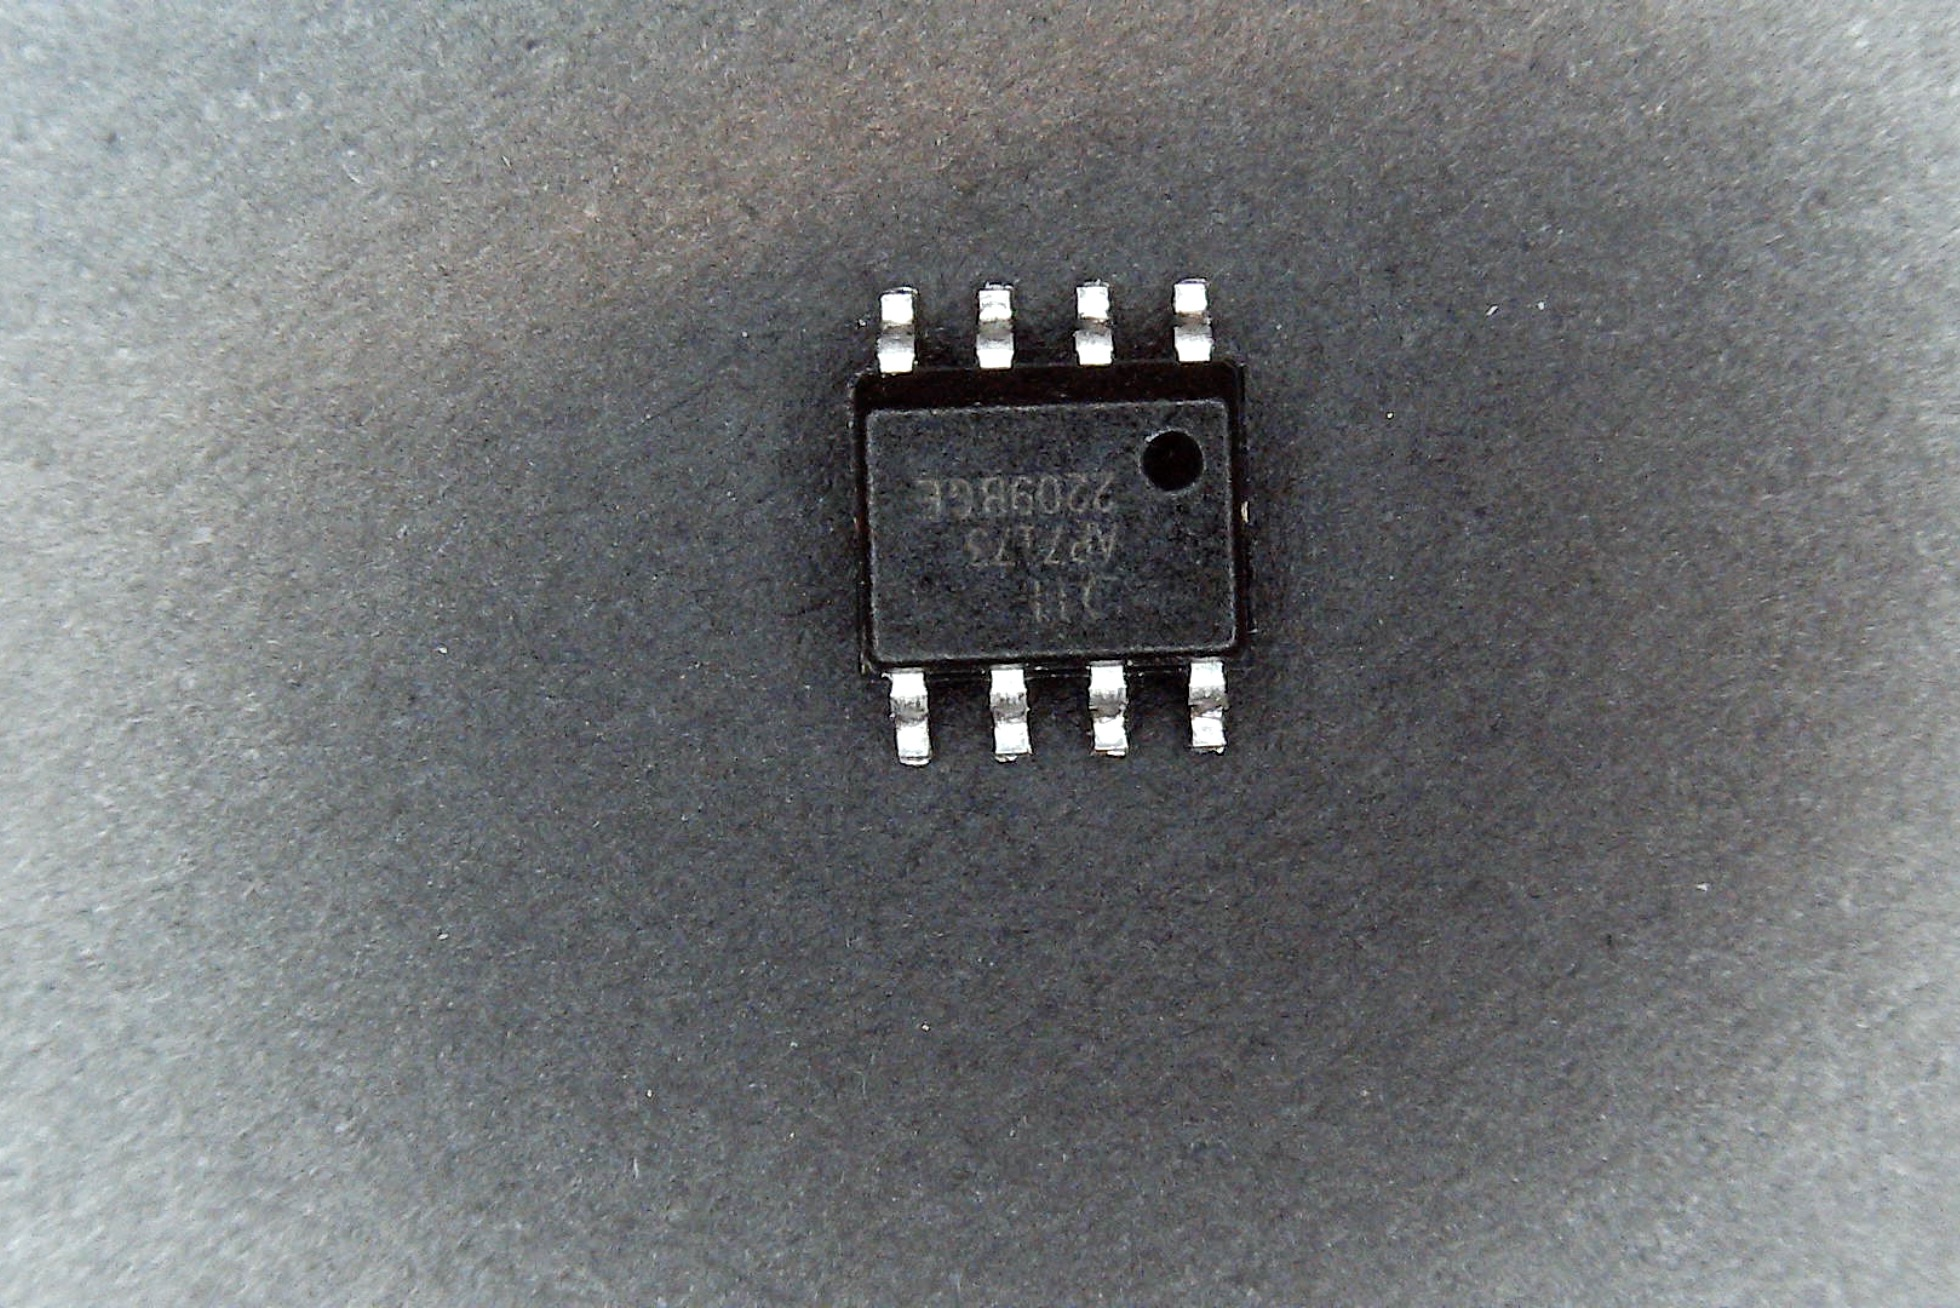bbox: (846, 277, 1257, 769)
